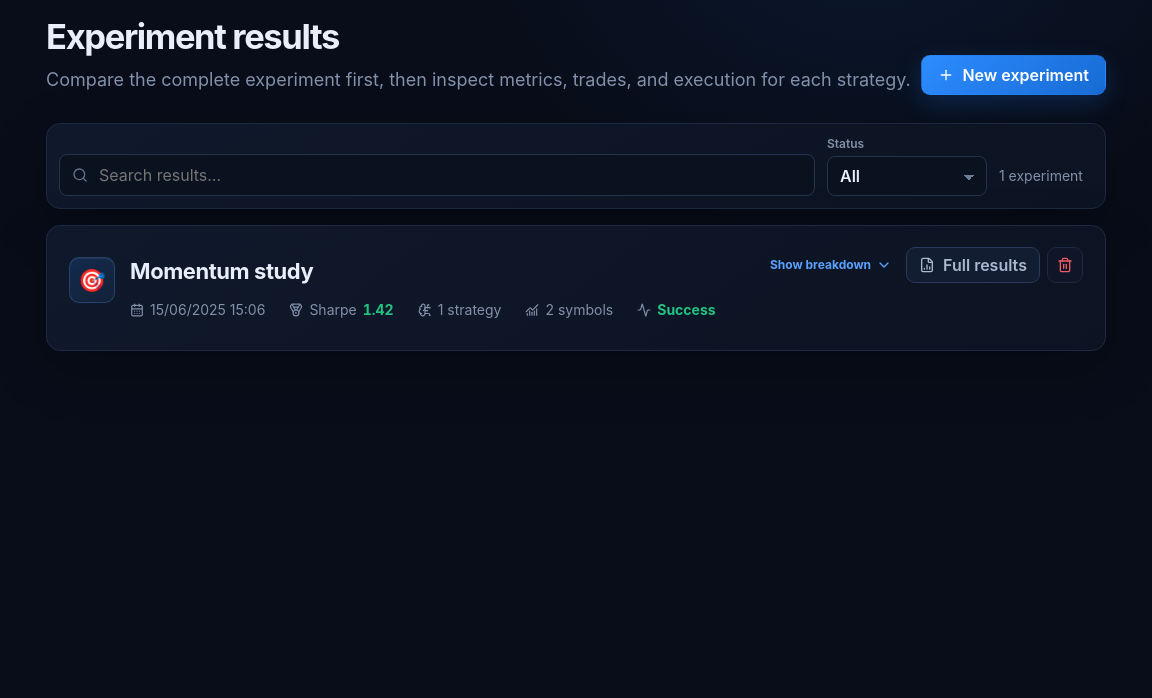
Test case: results page › formats result, period, trade, and order dates from display configuration
Step 1. Click the button with class "secondary" → (973, 265), box [906, 247, 1040, 283]
(page scrolled)
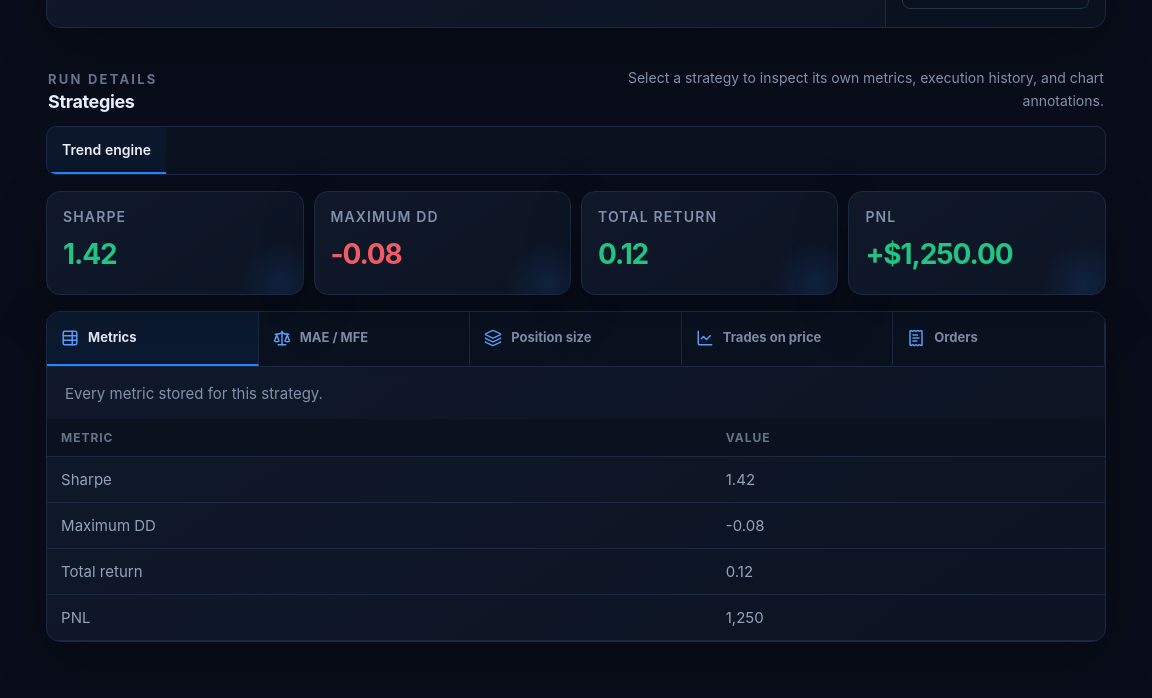
Step 2. Click the tab "Orders" → (999, 339), box [893, 312, 1105, 366]
(page scrolled)
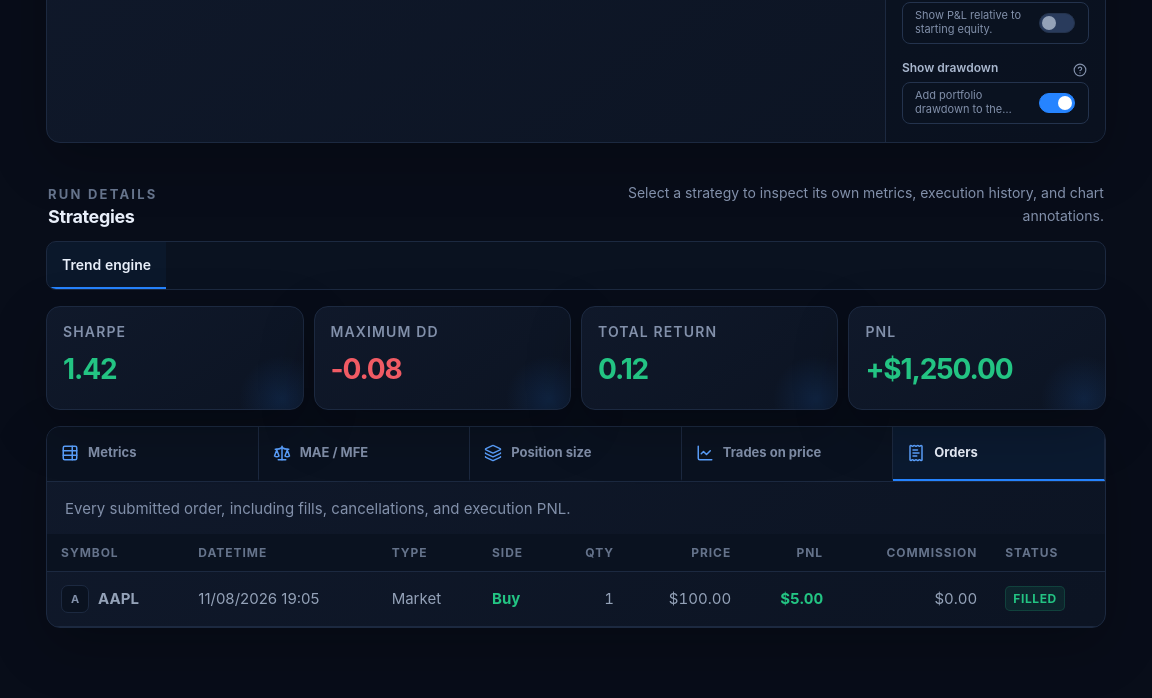
Check: the element with class "result-orders-table" shows "11/08/2026 19:05", box [198, 589, 319, 608]
